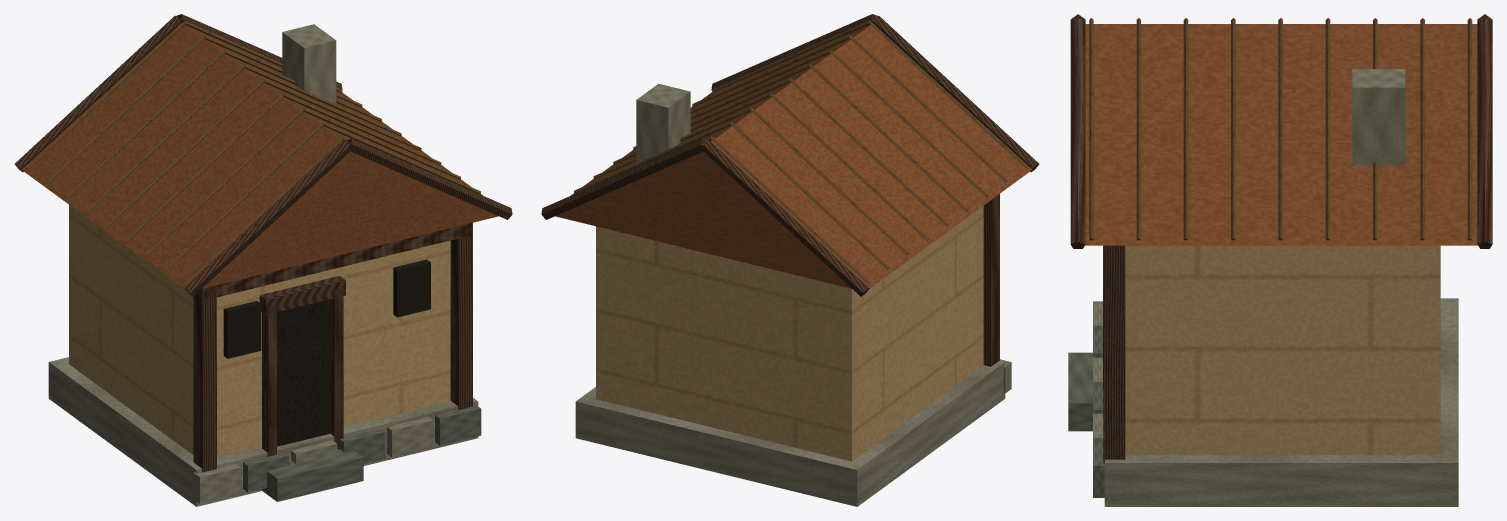
File: habitation_reclaimed_02.fbx
3 renders of one model, left to right at view 1: azimuth 30°, elevation 25°; view 2: azimuth 150°, elevation 25°; view 3: azimuth 270°, elevation 25°, orthographic. The views are drawn at different scales.
Visible parts, largest first — view 1: habitation_reclaimed_02_LOD0; view 2: habitation_reclaimed_02_LOD0; view 3: habitation_reclaimed_02_LOD0.
Boxes of the visible parts, x1,y1,x2,y2 form: habitation_reclaimed_02_LOD0: (14,14,512,506); habitation_reclaimed_02_LOD0: (541,14,1039,506); habitation_reclaimed_02_LOD0: (1068,14,1492,506).
Size of what is drawn, in the model's own units: 1.02 by 1.02 by 0.9591.
1 material, 1 textured.
